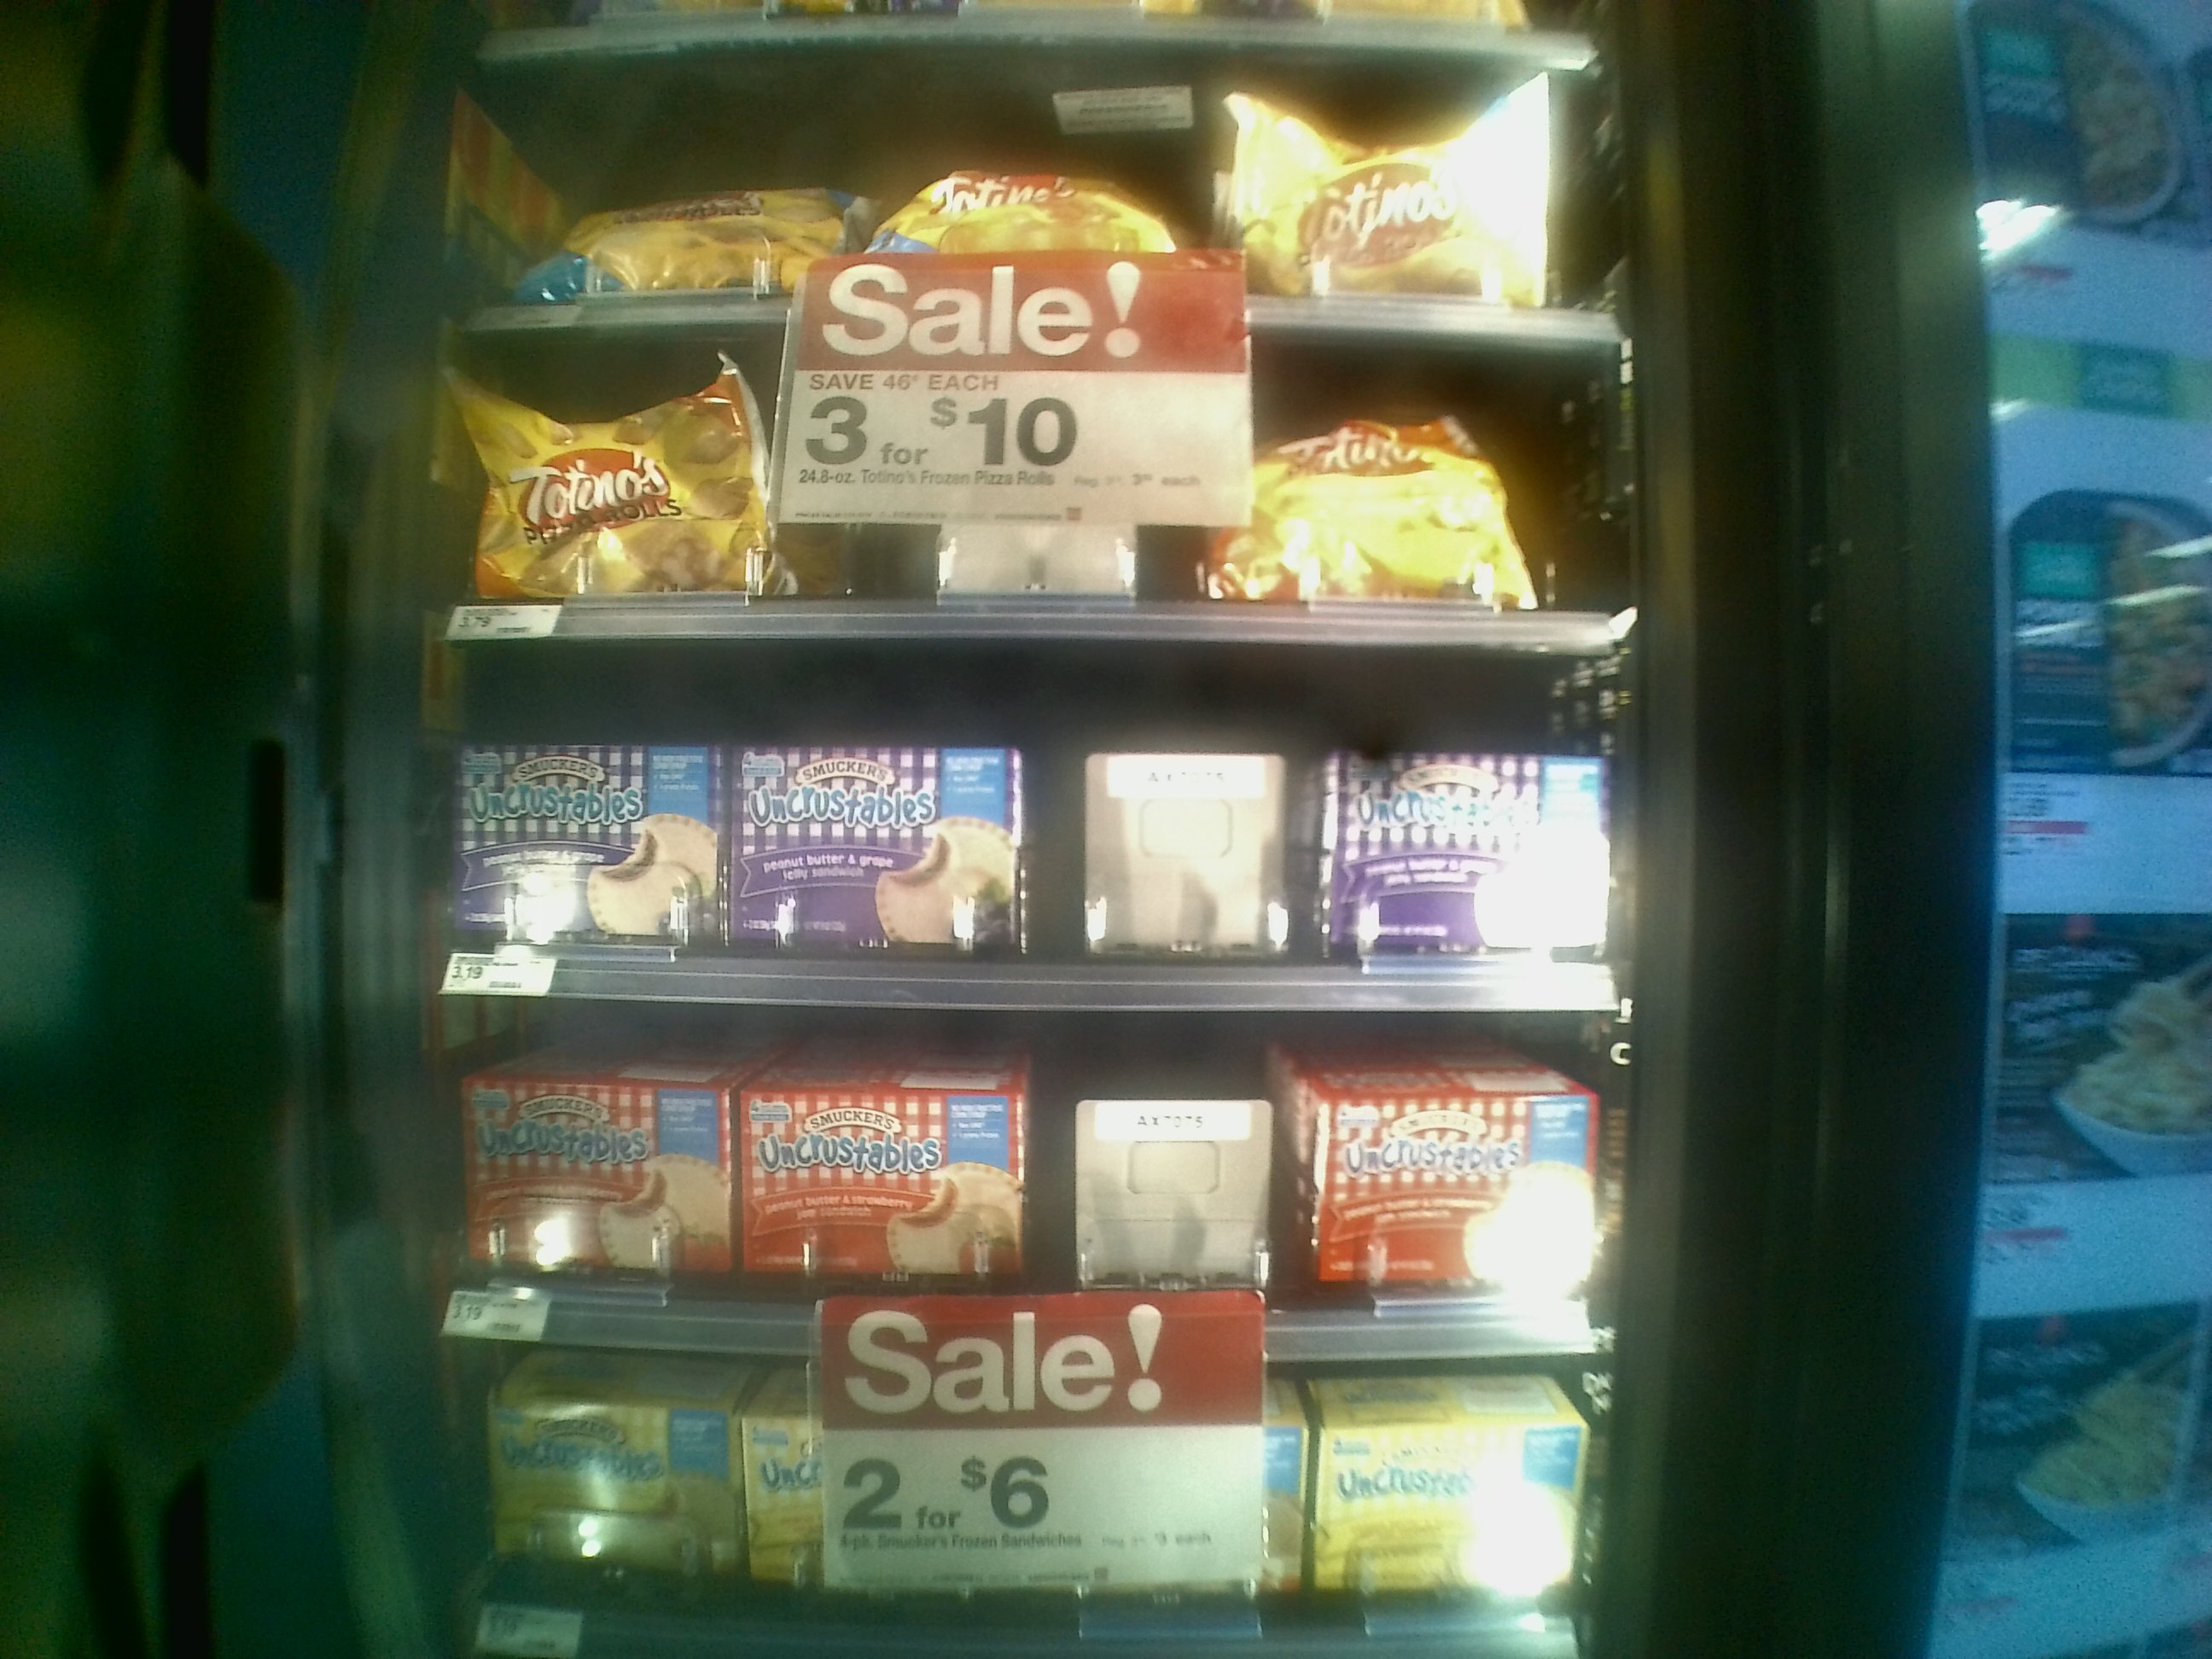shelf: (399, 969, 1602, 1342), (409, 627, 1615, 999), (425, 326, 1613, 633)
